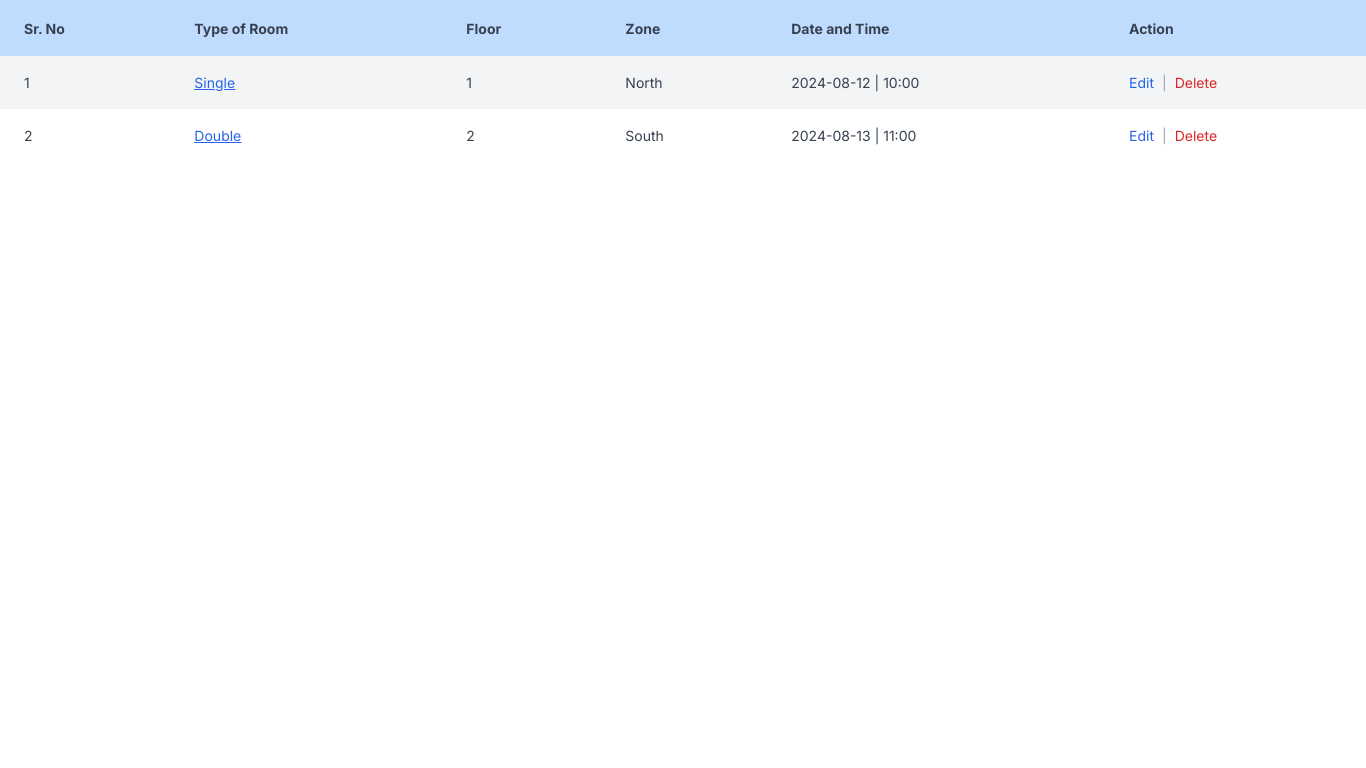
Scenario: HotelTable Component › opens and closes delete confirmation
The width and height of the screenshot is (1366, 768).
Click the button "Delete" in the row of "Single": (1196, 82) [1175,72,1217,93]
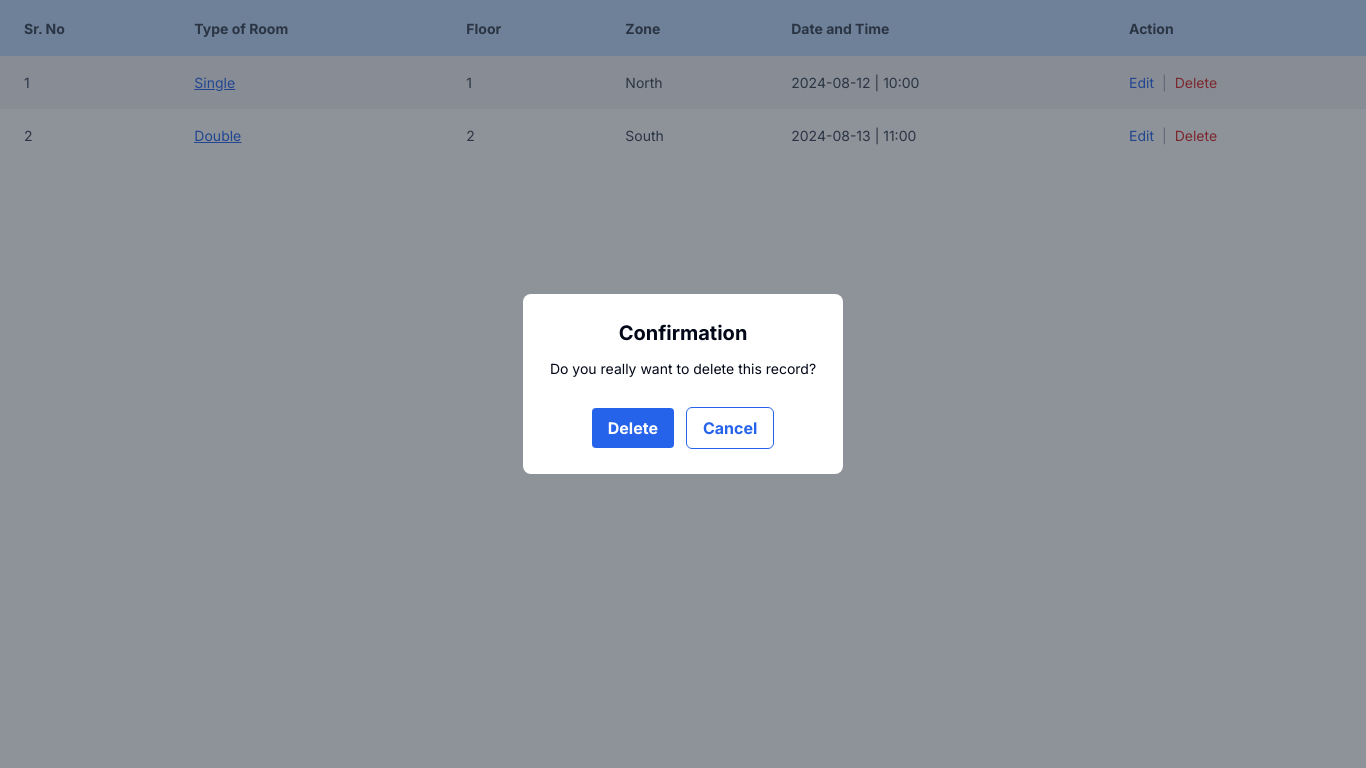
Expected: the heading "Do you really want to delete this record?" is shown, [550,359,816,379]
Click the button "Cancel": (730, 428) [686,407,774,449]
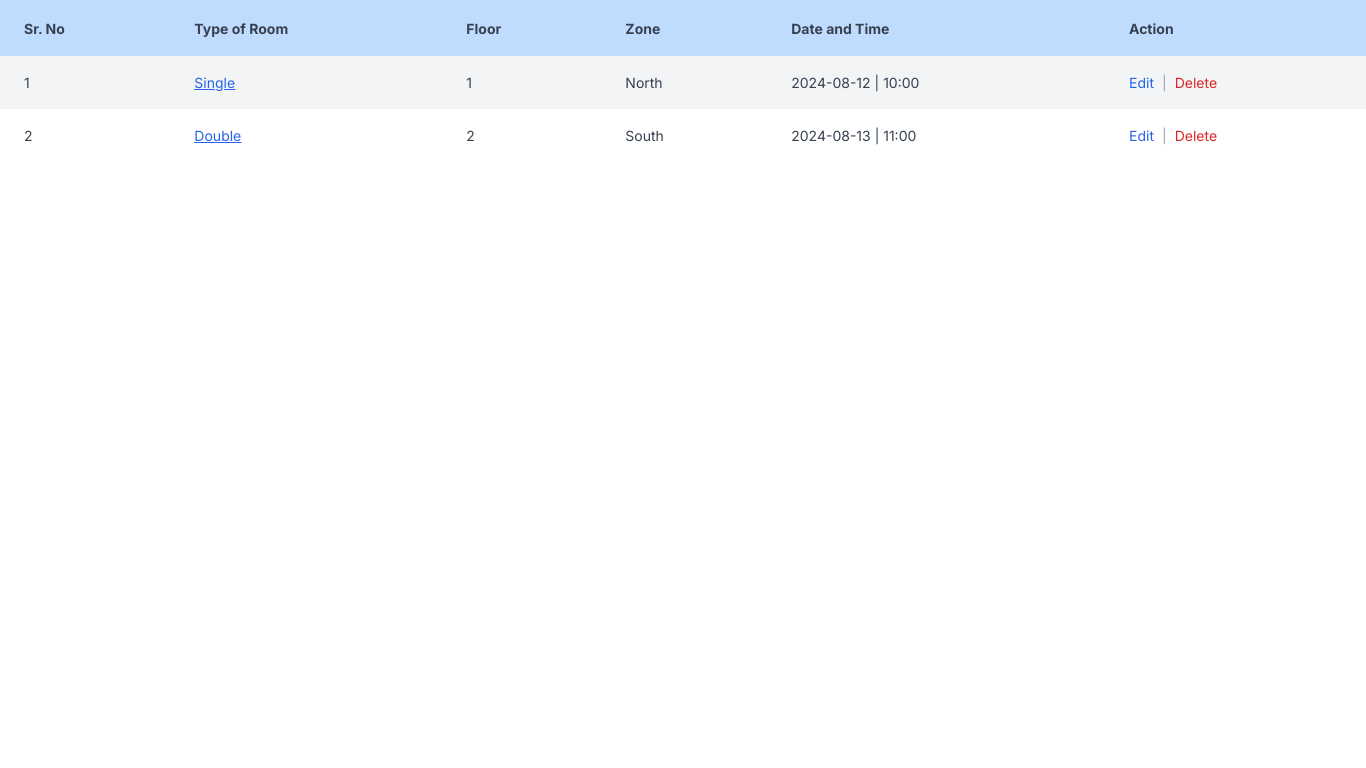
Expected: the heading "Do you really want to delete this record?" is gone
